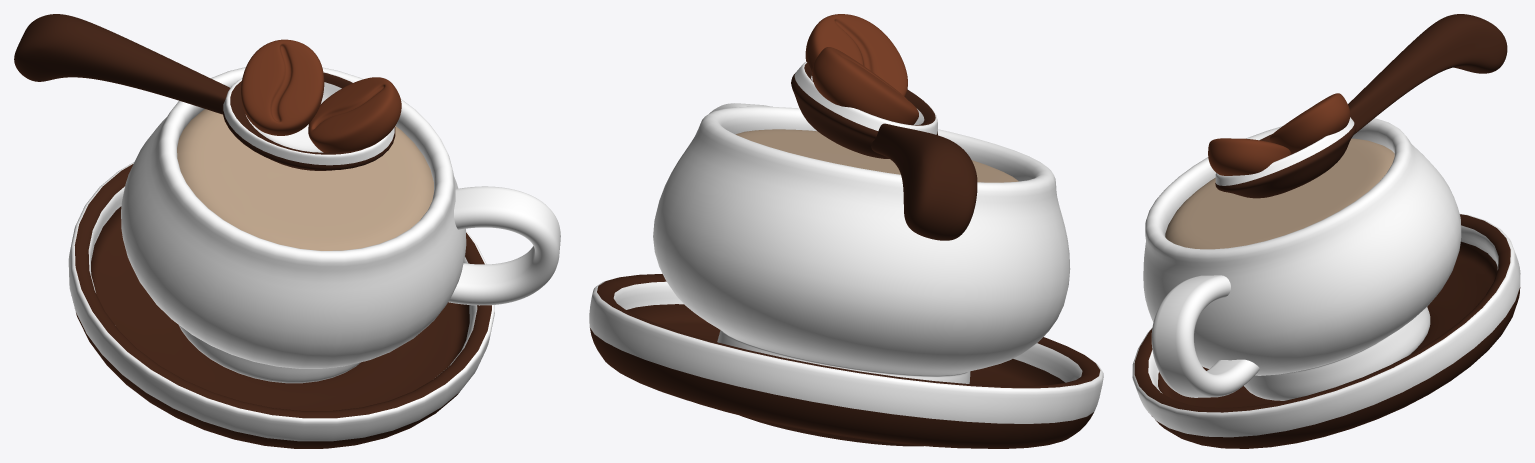
The model's file is cup.glb.
3 renders of one model, left to right at view 1: azimuth 30°, elevation 25°; view 2: azimuth 150°, elevation 25°; view 3: azimuth 270°, elevation 25°, orthographic. The views are drawn at different scales.
Parts seen in each view (by area): view 1: Circle, Circle.001, Circle.023, Cube, NurbsPath, Cube.009, Cube.008, Circle.002; view 2: Circle, Circle.001, Cube, Circle.002, Cube.009, Cube.008, Circle.023; view 3: Circle, Circle.001, Circle.023, Cube, NurbsPath, Circle.002, Cube.009, Cube.008.
Boxes of the visible parts, <box> form: Circle: <box>121,67,466,383</box>; Circle.001: <box>68,162,494,448</box>; Circle.023: <box>177,109,433,250</box>; Cube: <box>14,14,230,114</box>; NurbsPath: <box>448,186,560,305</box>; Cube.009: <box>241,39,324,135</box>; Cube.008: <box>308,77,401,152</box>; Circle.002: <box>222,72,395,170</box>; Circle: <box>653,106,1070,383</box>; Circle.001: <box>589,274,1103,448</box>; Cube: <box>871,123,977,240</box>; Circle.002: <box>791,61,937,158</box>; Cube.009: <box>812,47,918,124</box>; Cube.008: <box>805,14,907,96</box>; Circle.023: <box>735,129,1018,182</box>; Circle: <box>1143,118,1461,400</box>; Circle.001: <box>1132,214,1520,448</box>; Circle.023: <box>1165,138,1394,249</box>; Cube: <box>1348,14,1507,134</box>; NurbsPath: <box>1151,275,1259,397</box>; Circle.002: <box>1215,117,1356,198</box>; Cube.009: <box>1269,93,1350,154</box>; Cube.008: <box>1208,138,1290,175</box>.
Size of the model in its own units: 4.99 by 4.24 by 4.6.
